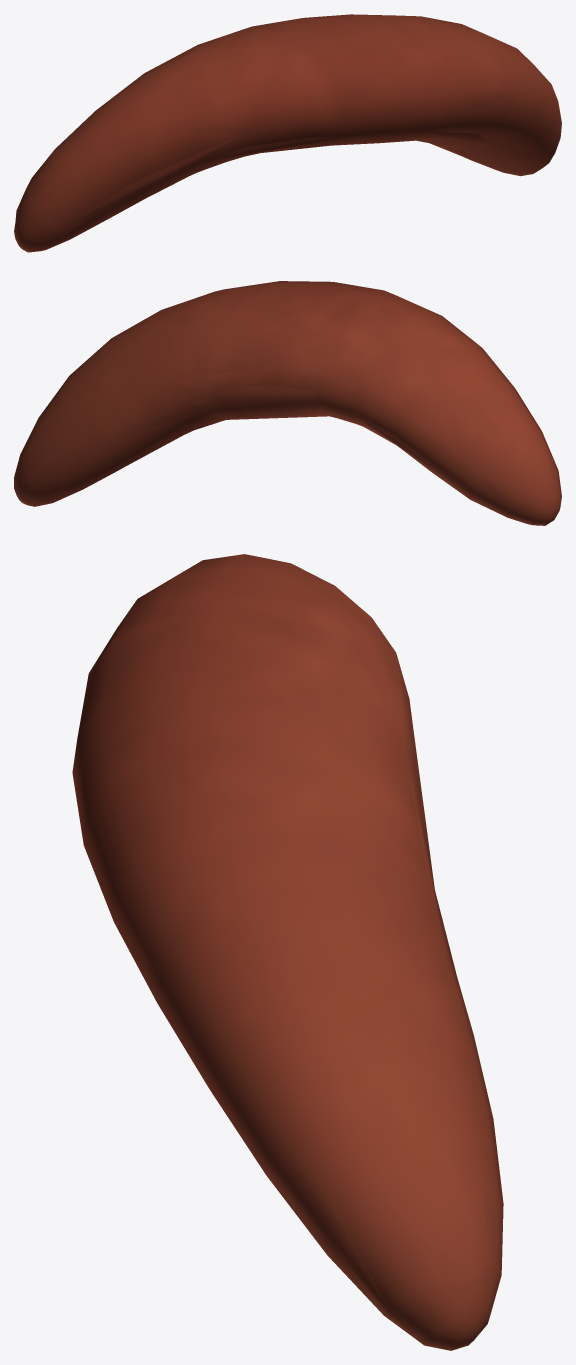
Rendered from Pancrease.fbx.
3 renders of one model, top to bottom at view 1: azimuth 30°, elevation 25°; view 2: azimuth 150°, elevation 25°; view 3: azimuth 270°, elevation 25°, orthographic. The views are drawn at different scales.
Parts seen in each view (by area): view 1: Pancrease, Pancrease low, Pancrease high; view 2: Pancrease, Pancrease low, Pancrease high; view 3: Pancrease, Pancrease low.
Boxes of the visible parts, x1,y1,x2,y2 form: Pancrease: [14, 14, 561, 252]; Pancrease low: [20, 19, 561, 252]; Pancrease high: [15, 25, 559, 250]; Pancrease: [14, 281, 561, 525]; Pancrease low: [31, 283, 555, 524]; Pancrease high: [15, 287, 555, 520]; Pancrease: [72, 554, 503, 1350]; Pancrease low: [73, 555, 501, 1345].
Size of the model in its own units: 6.74 by 2.94 by 2.48.
Materials: 1 (1 with a texture image).
